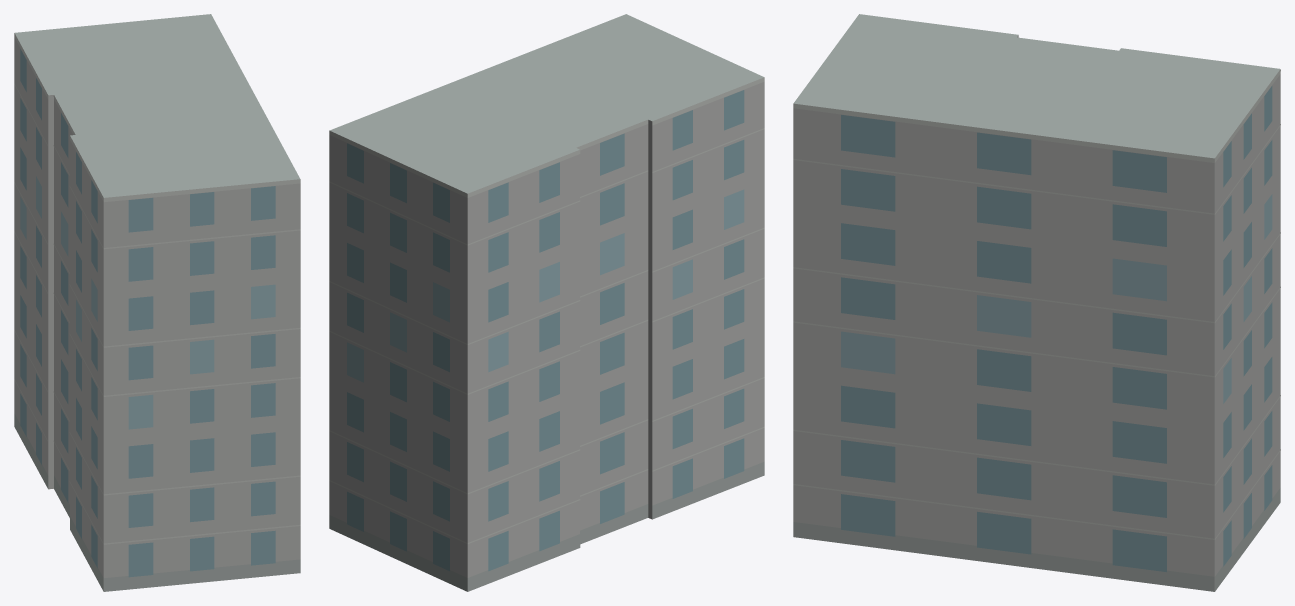
File: survey-upis-32723460.glb
The picture shows the model from 3 angles, left to right: view 1: azimuth 30°, elevation 25°; view 2: azimuth 150°, elevation 25°; view 3: azimuth 270°, elevation 25°; orthographic projection. The views are drawn at different scales.
Visible parts, largest first — view 1: survey-upis-32723460.tmp; view 2: survey-upis-32723460.tmp; view 3: survey-upis-32723460.tmp.
Part boxes in pixels (x1=…): survey-upis-32723460.tmp: x1=14, y1=14, x2=300, y2=591; survey-upis-32723460.tmp: x1=329, y1=14, x2=764, y2=591; survey-upis-32723460.tmp: x1=793, y1=14, x2=1280, y2=591.
Bounding box in the file's own units: 16.03 × 22.4 × 22.85.
